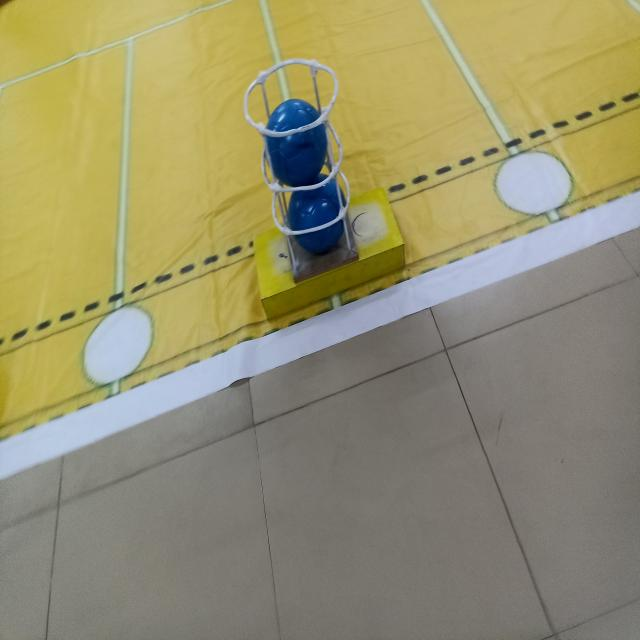blue_ball: (266, 99, 325, 183), (289, 176, 343, 248)
silo: (242, 58, 394, 287)
